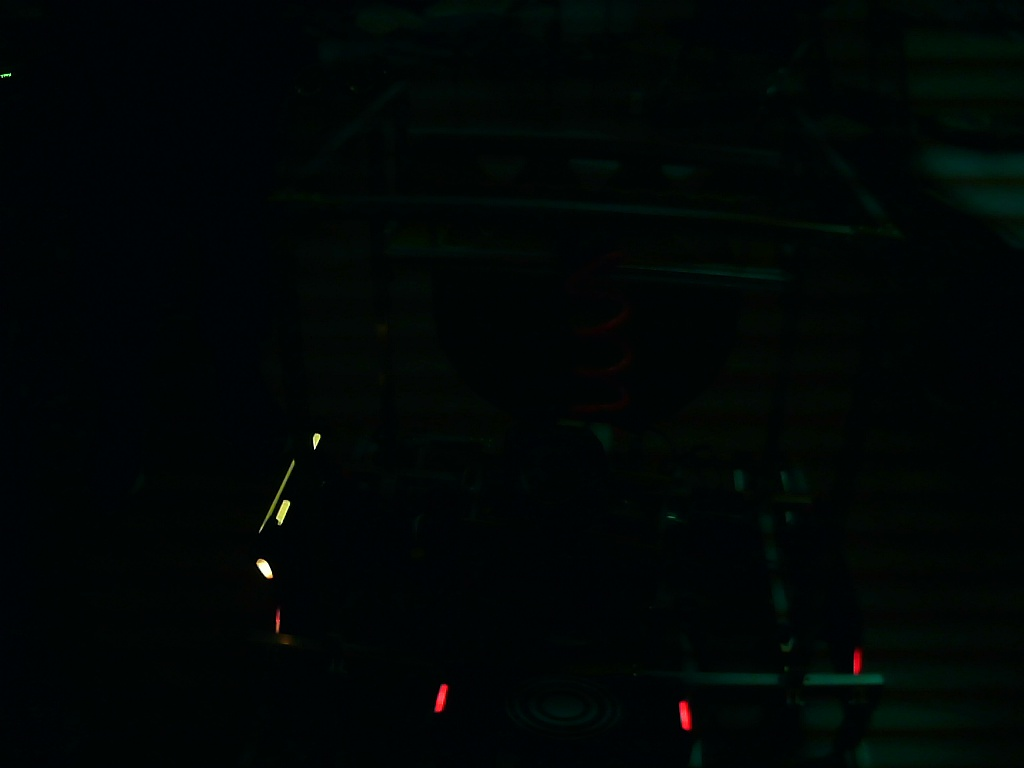lamp: (675, 700, 696, 735), (432, 676, 450, 715)
